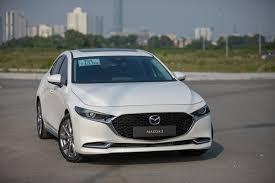mazda: (148, 113, 161, 125)
